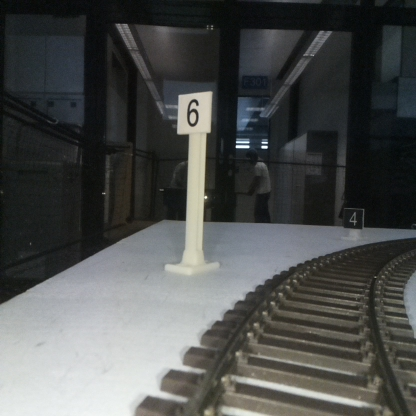black-stop-4: (343, 209, 364, 238)
white-info-6: (177, 91, 212, 271)
